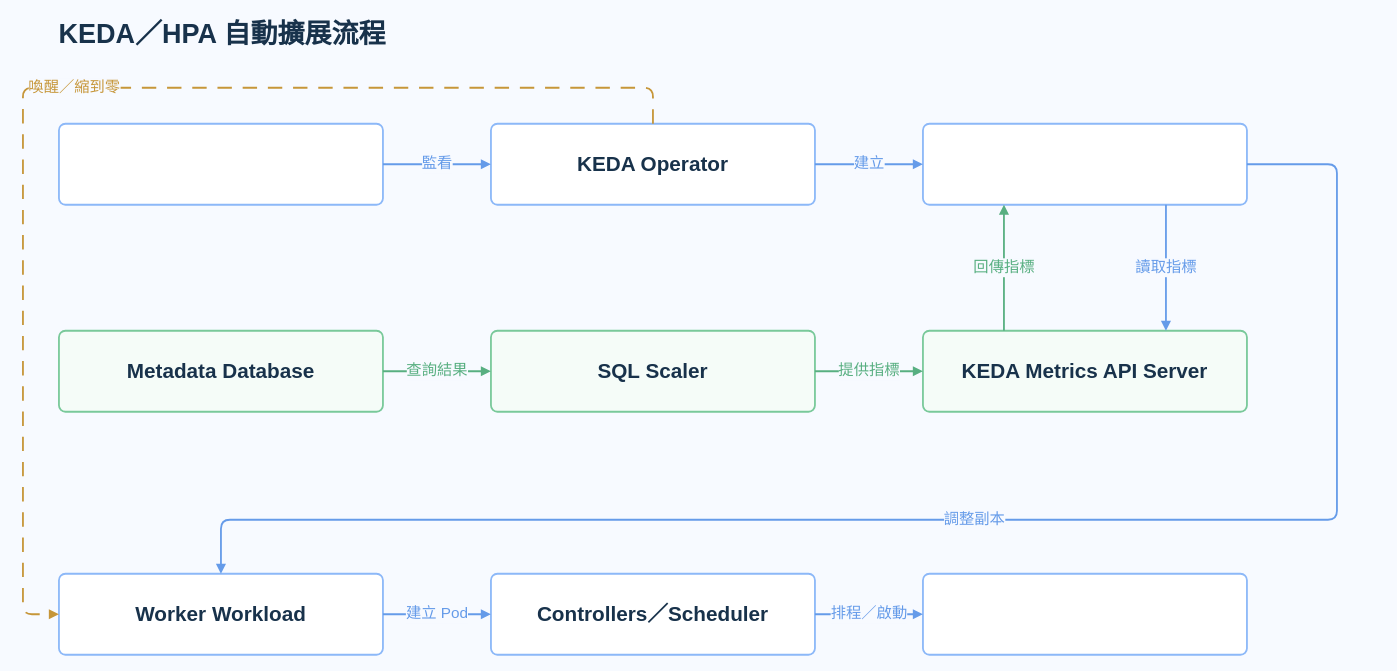
The diagram is 1397 pixels wide and 671 high, and some of its shapes have lost their labels. The box of each missing label's shape, as (x1, y1, x2, y2) in pixels:
Airflow Worker Pods: (922, 572, 1247, 655)
HPA: (922, 122, 1247, 205)
ScaledObject: (58, 122, 383, 205)
